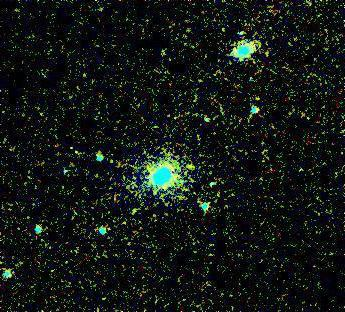star: (176, 155, 206, 185)
